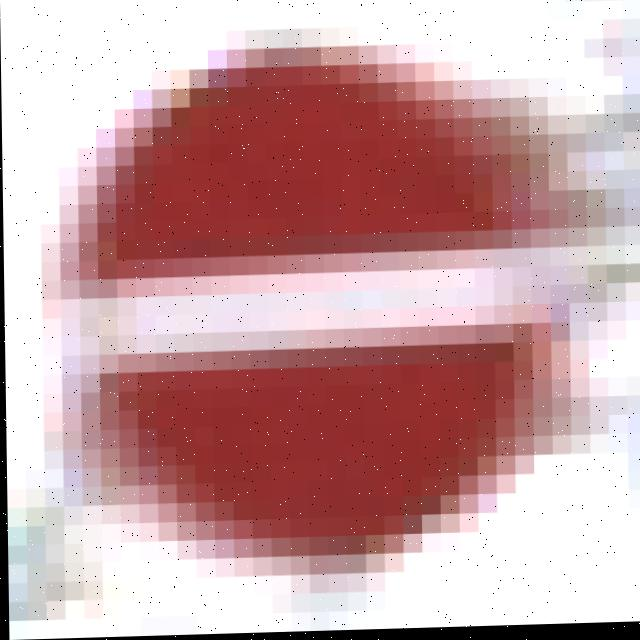road_rough: (55, 4, 576, 579)
